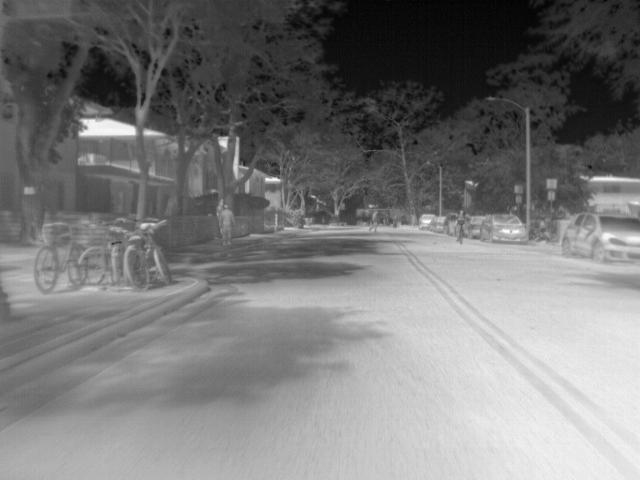car: (561, 211, 640, 263), (480, 212, 531, 246), (465, 215, 488, 238), (428, 214, 447, 234), (419, 212, 438, 231), (446, 215, 458, 235)
person: (219, 204, 239, 246), (369, 209, 379, 233), (216, 198, 226, 218), (457, 207, 467, 226)
